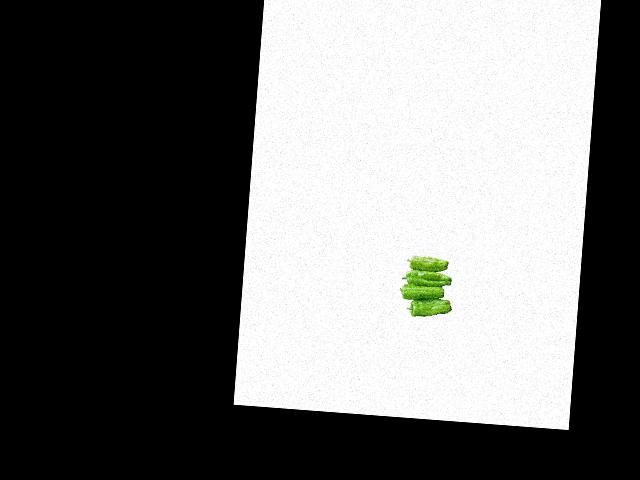bell_pepper: (403, 296, 456, 319)
